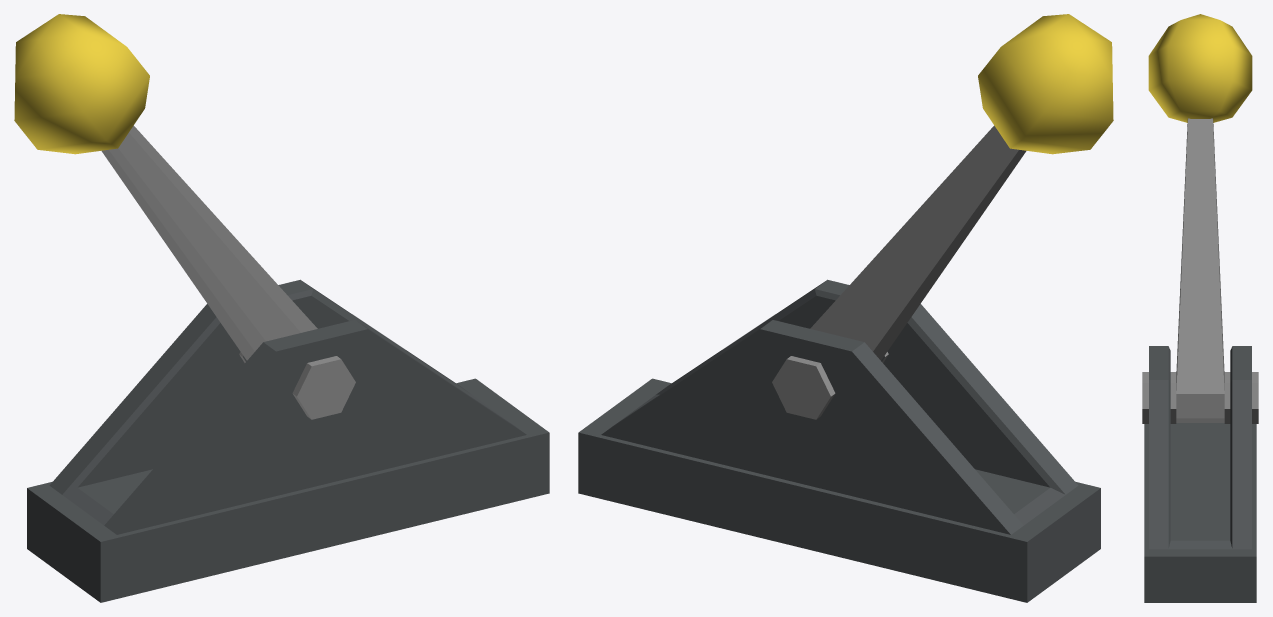
Rendered from Lever.fbx.
3 renders of one model, left to right at view 1: azimuth 30°, elevation 25°; view 2: azimuth 150°, elevation 25°; view 3: azimuth 270°, elevation 25°, orthographic. The views are drawn at different scales.
Parts seen in each view (by area): view 1: Cylinder.110, Sphere.003; view 2: Cylinder.110, Sphere.003; view 3: Cylinder.110, Sphere.003.
Boxes of the visible parts, left/top/right/bottom form: Cylinder.110: left=27, top=279, right=549, bottom=602; Sphere.003: left=14, top=14, right=317, bottom=360; Cylinder.110: left=578, top=279, right=1100, bottom=602; Sphere.003: left=810, top=14, right=1113, bottom=360; Cylinder.110: left=1142, top=346, right=1258, bottom=602; Sphere.003: left=1148, top=14, right=1252, bottom=422.
Bounding box in the file's own units: 117 × 124 × 31.26.
